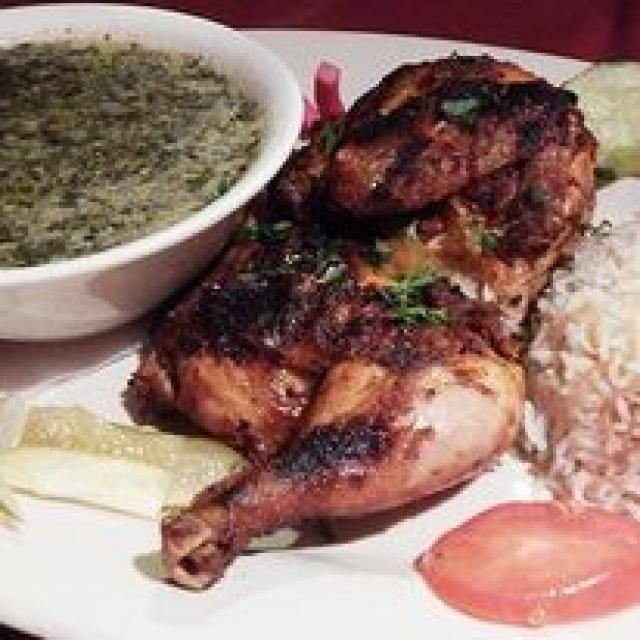Chicken Wings: (180, 345, 519, 572)
White Rice: (534, 171, 637, 494)
